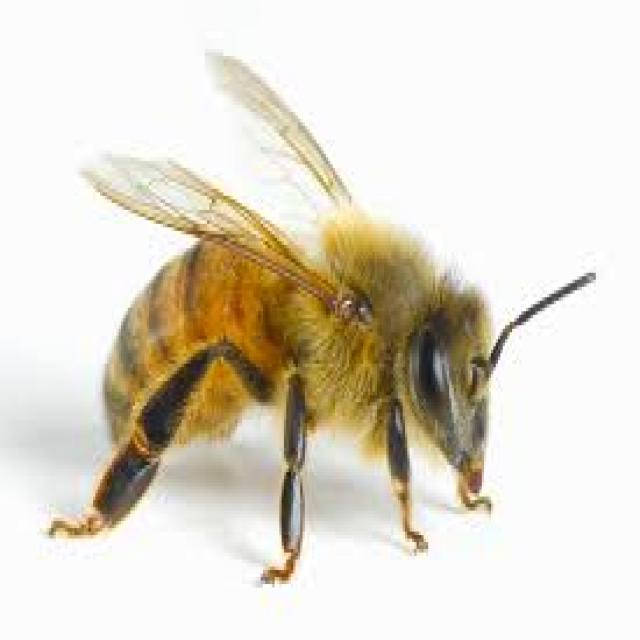Bees: (46, 48, 597, 584)
